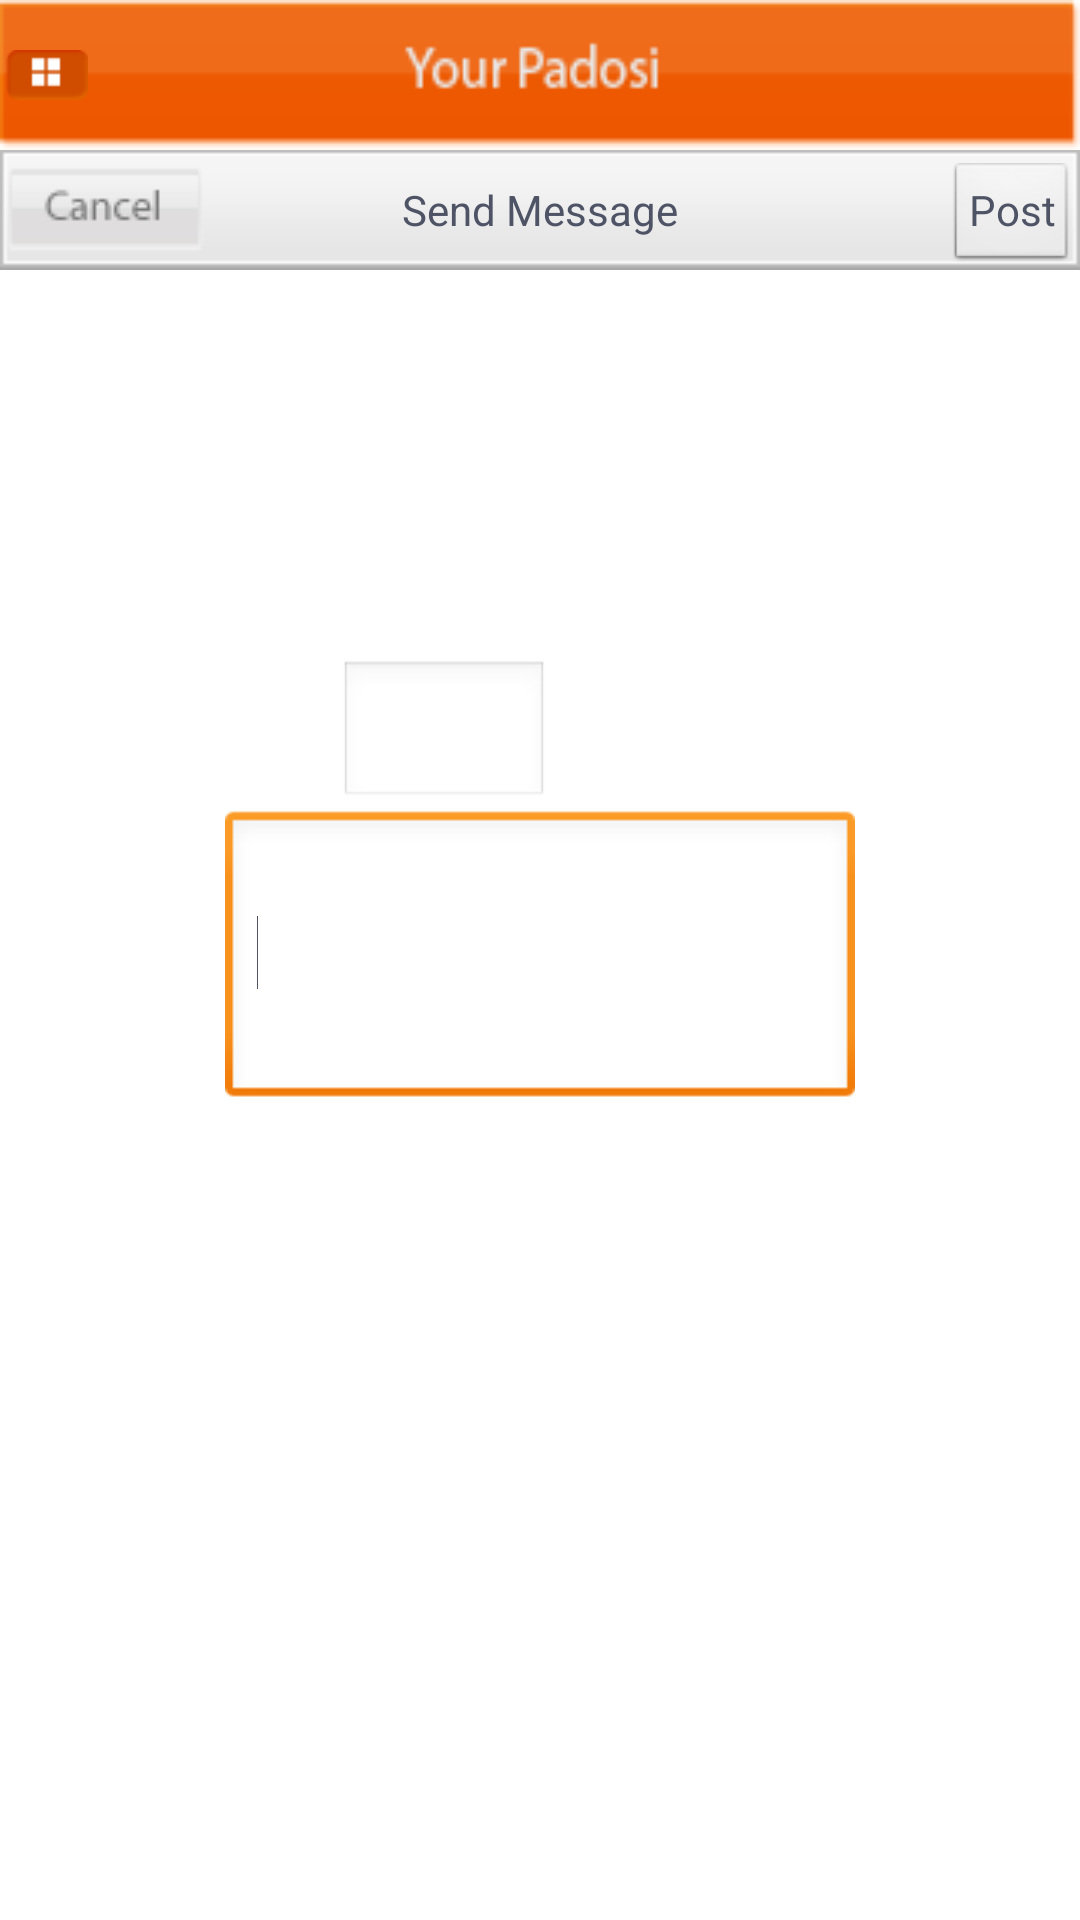

Icon click points for this 1080 x 1920 phone screenshot, format [x,y]:
menuicon: [47,75]
